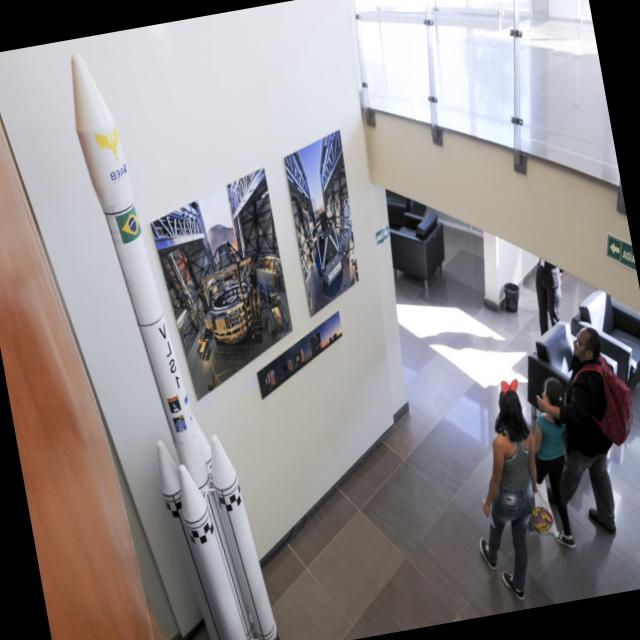rocket: (67, 35, 278, 640)
